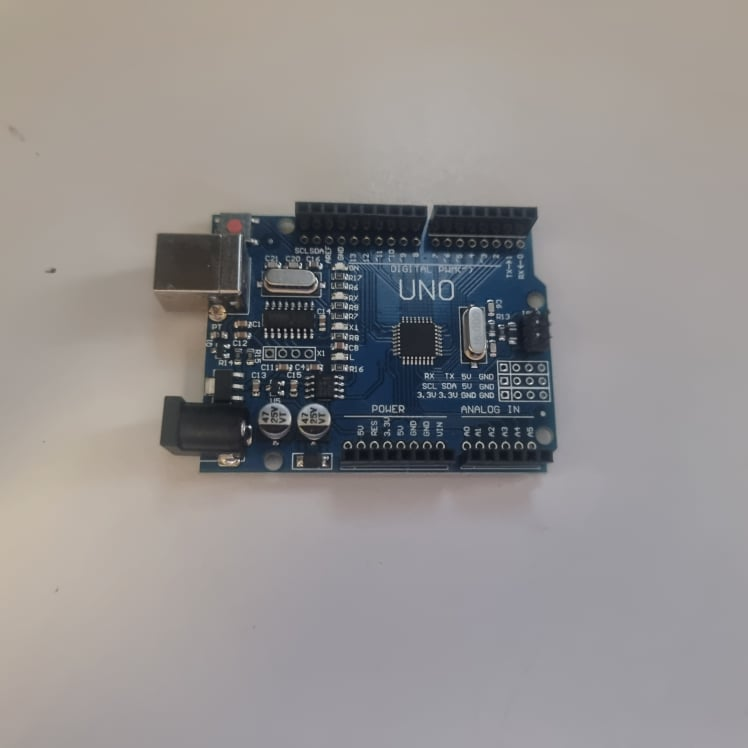UNO R3: (153, 200, 558, 477)
